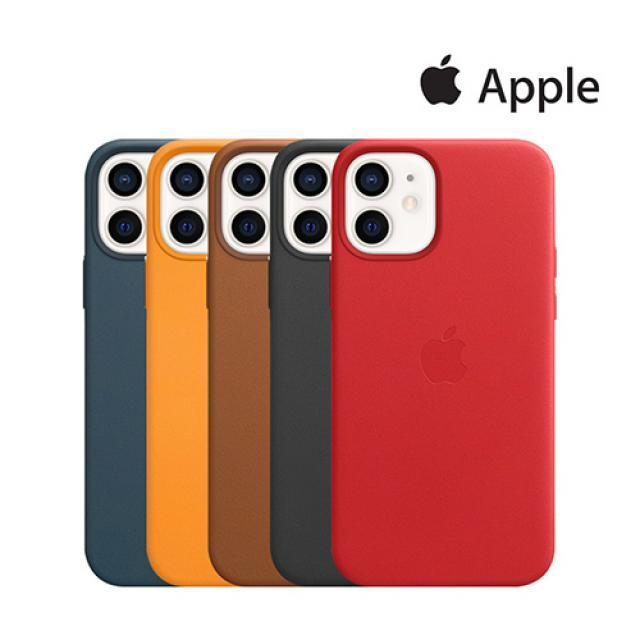phone: (333, 137, 558, 589)
